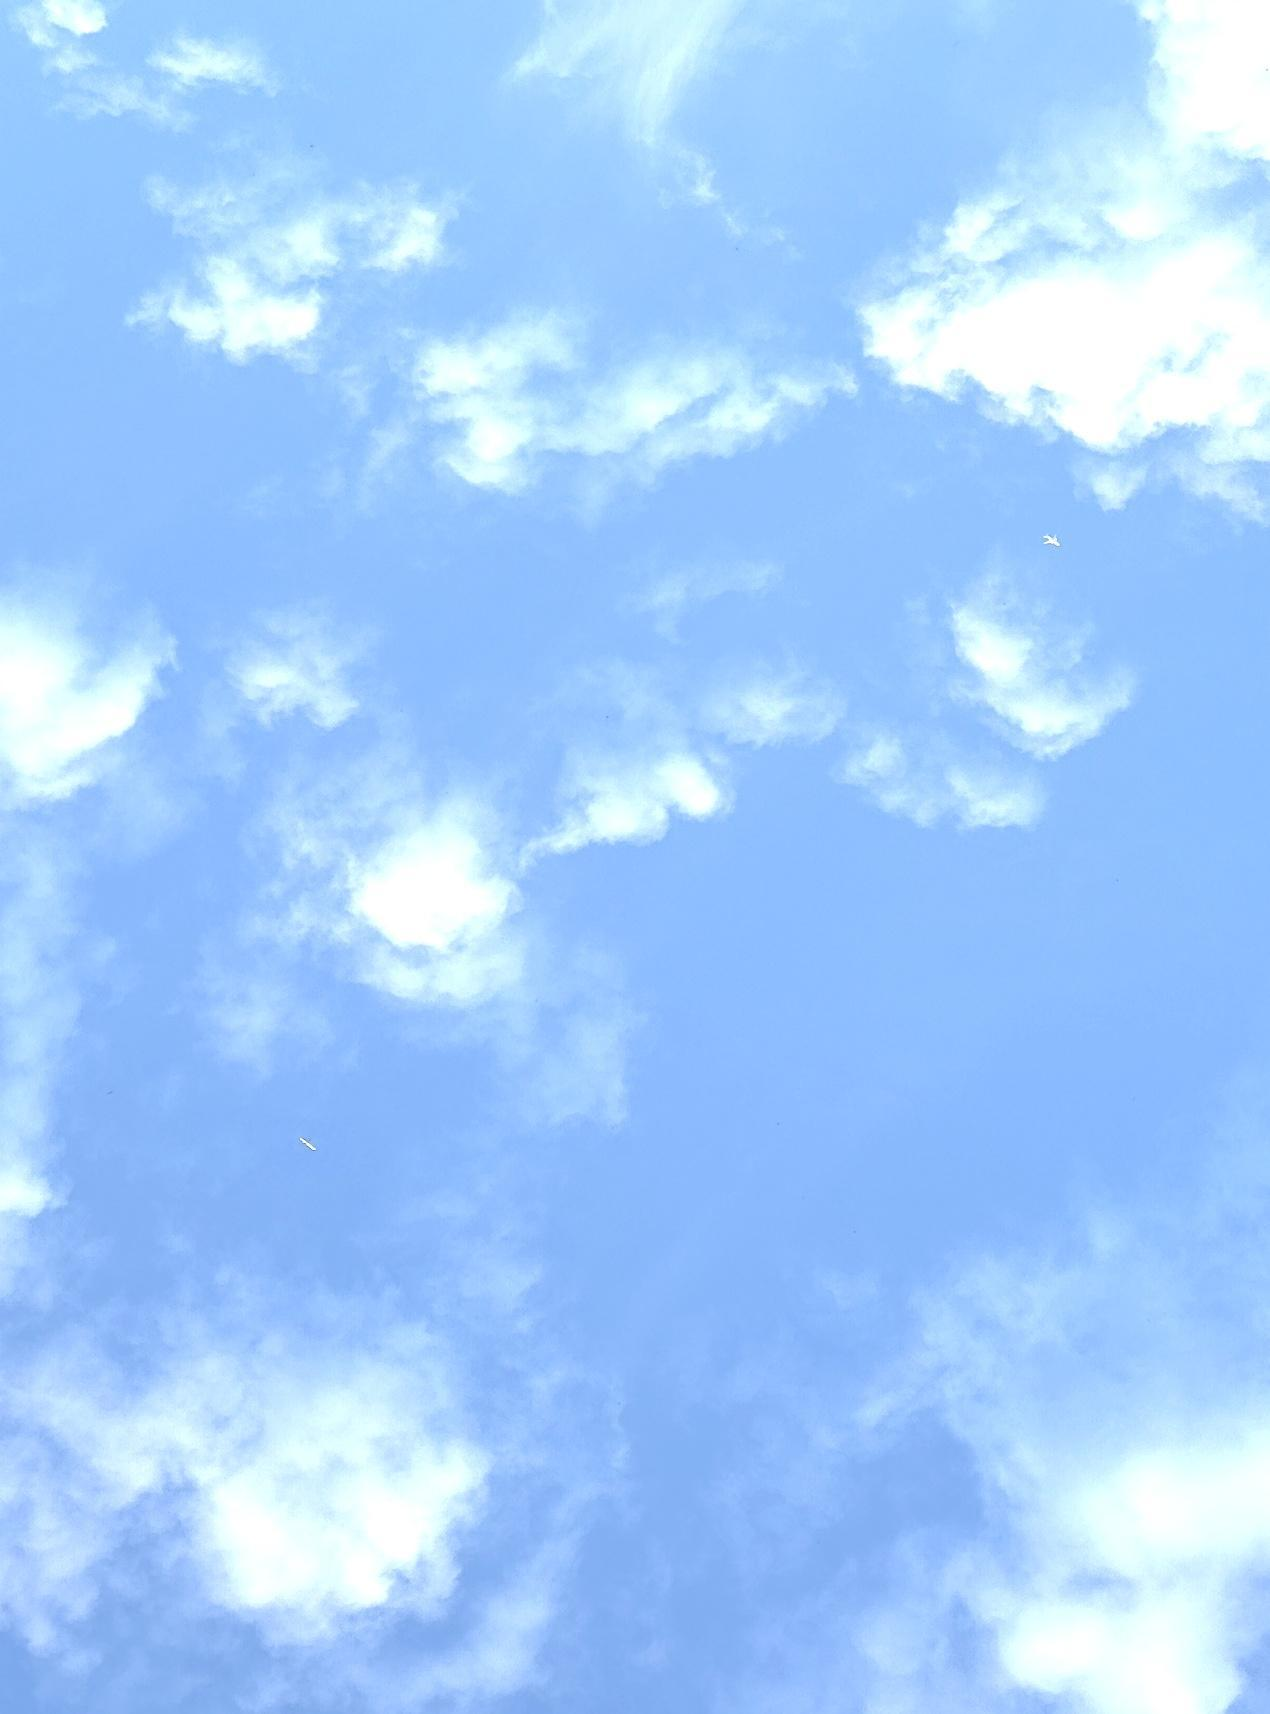Plane: (1009, 519, 1090, 563), (283, 1115, 331, 1166)
